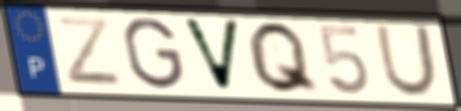5: (315, 22, 371, 96)
G: (120, 15, 187, 91)
Q: (244, 18, 323, 96)
U: (373, 23, 441, 100)
V: (178, 15, 243, 94)
Z: (53, 14, 126, 88)
